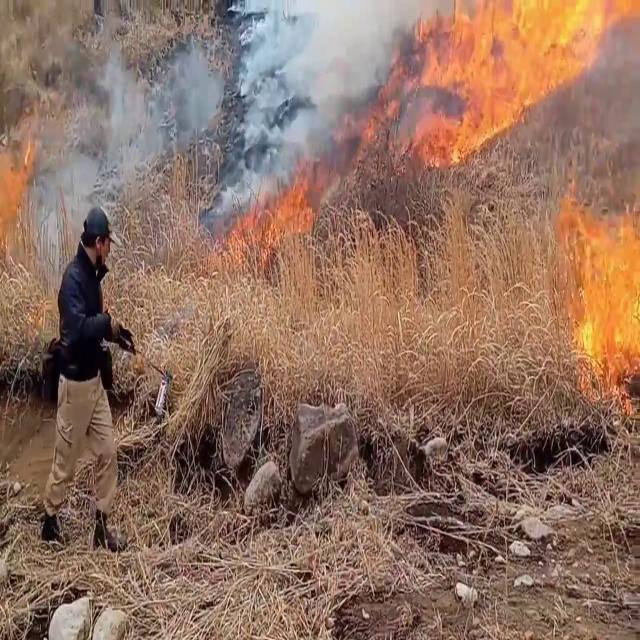Fire: (404, 0, 638, 156), (552, 182, 640, 394), (222, 153, 366, 276)
Smoke: (70, 0, 386, 196)
